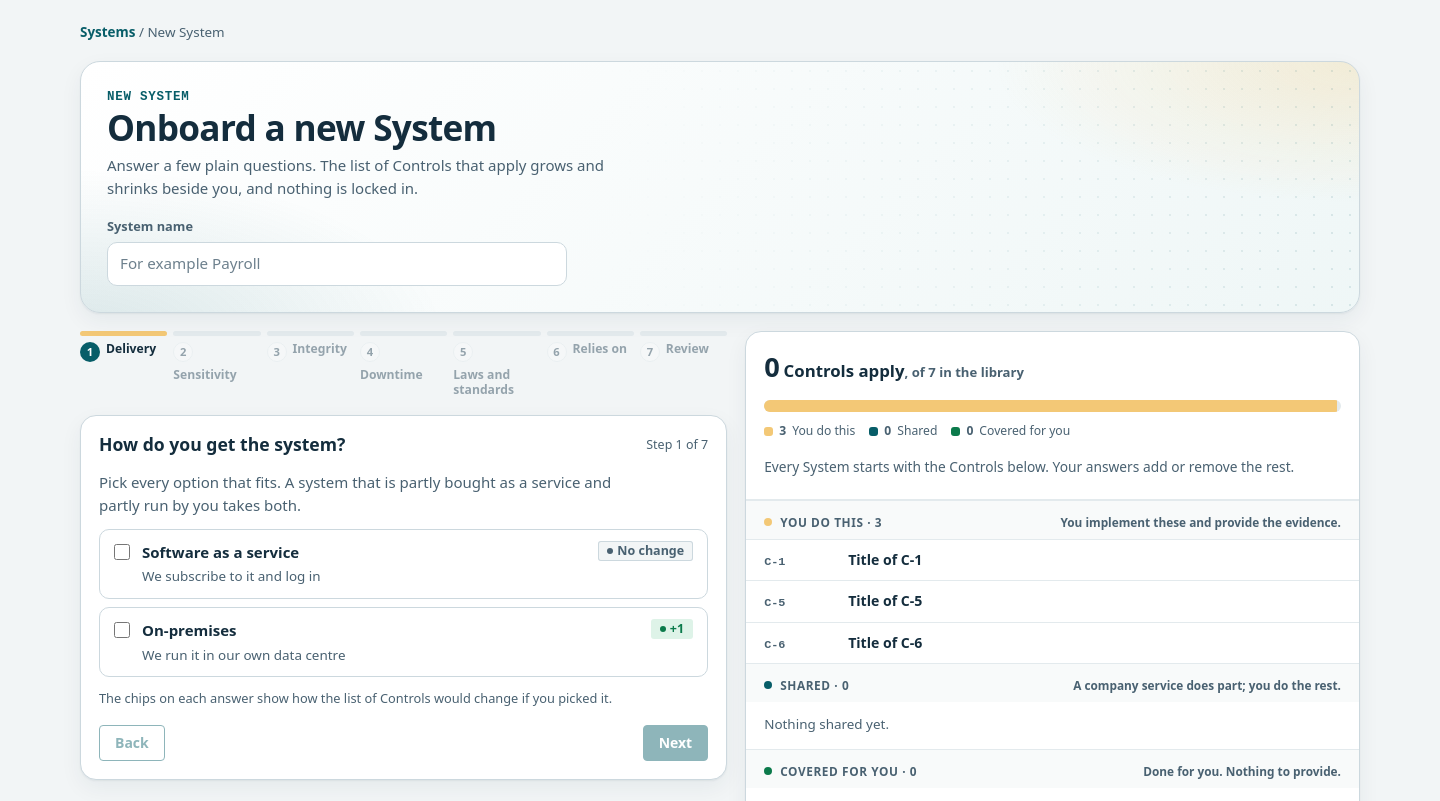
Test case: OnboardingInterview › keeps Next disabled until a Deployment Facet is picked, and the later steps with it
The image size is (1440, 801).
Expected: the heading "How do you get the system?" is shown, [99,432,345,457]
Expected: the button "Next" is disabled, [643,725,708,761]
Click the checkbox labelled "Software as a service" at (122, 552), box [114,544,130,560]
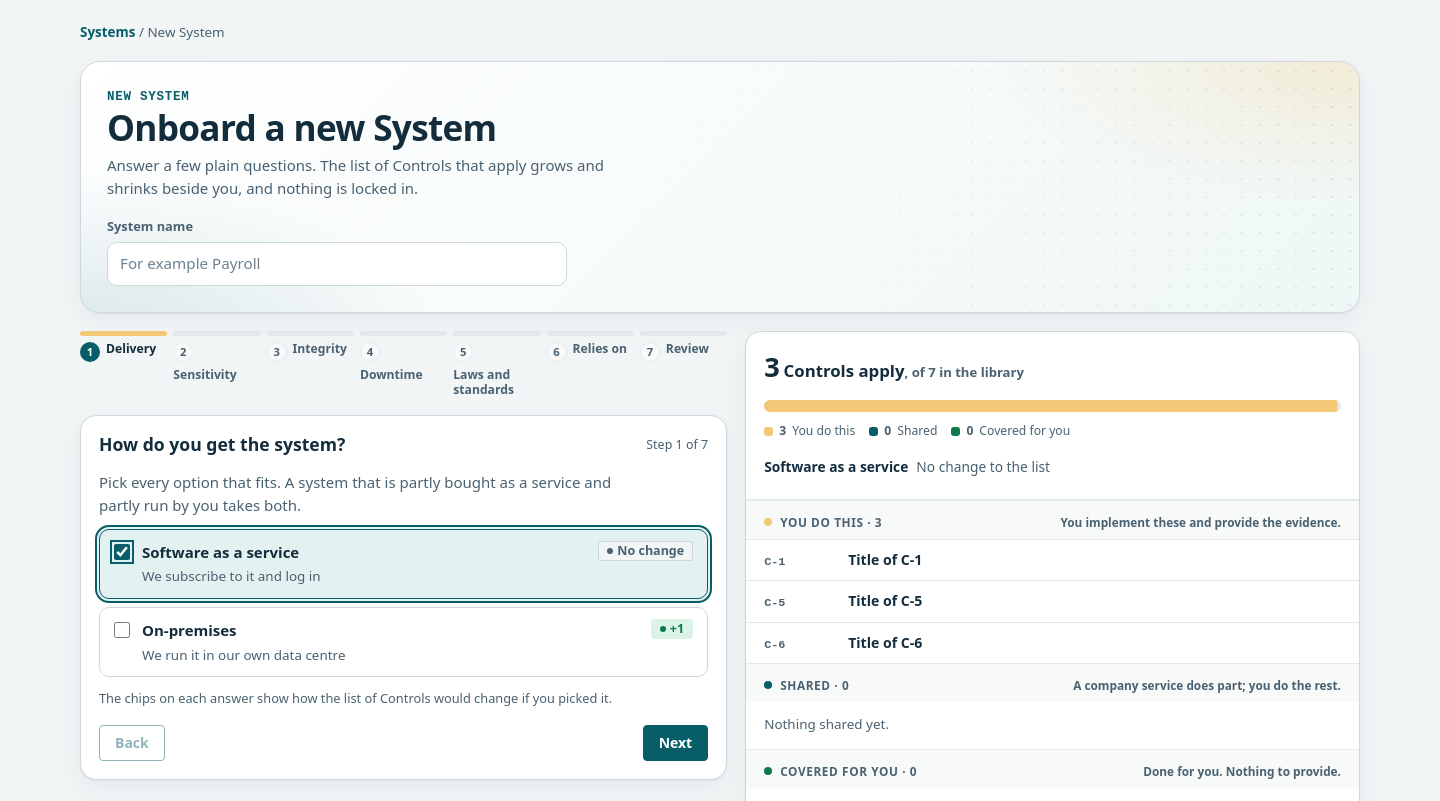
Result: the button "Next" is enabled at [643,725,708,761]
Click the checkbox labelled "Software as a service" at (122, 552), box [114,544,130,560]
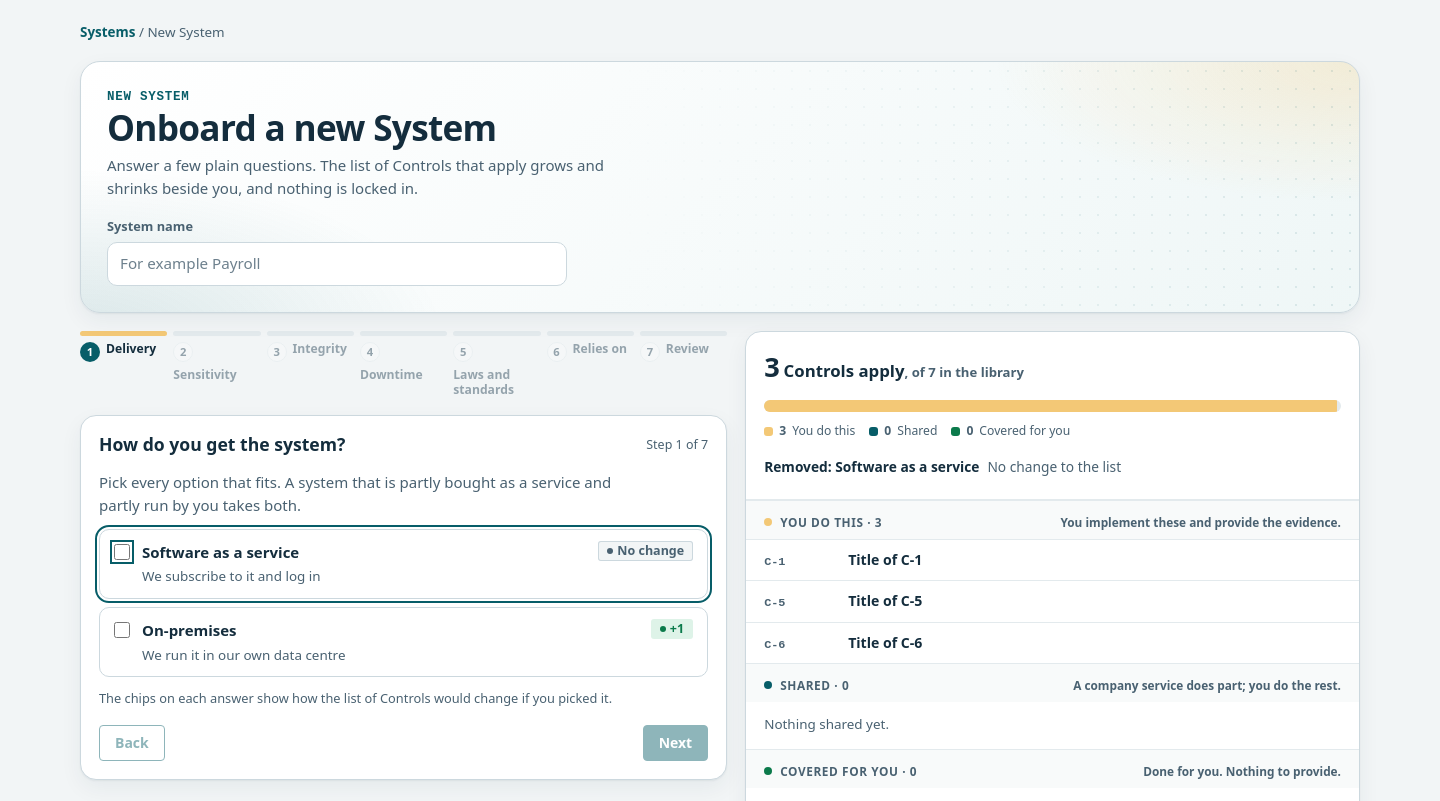
Result: the button "Next" is disabled at [643,725,708,761]
